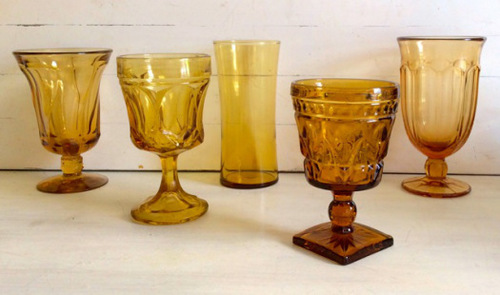Nonrec_Glass: (289, 73, 401, 276), (116, 52, 214, 226), (7, 43, 115, 199), (395, 29, 487, 209), (212, 36, 287, 192)
